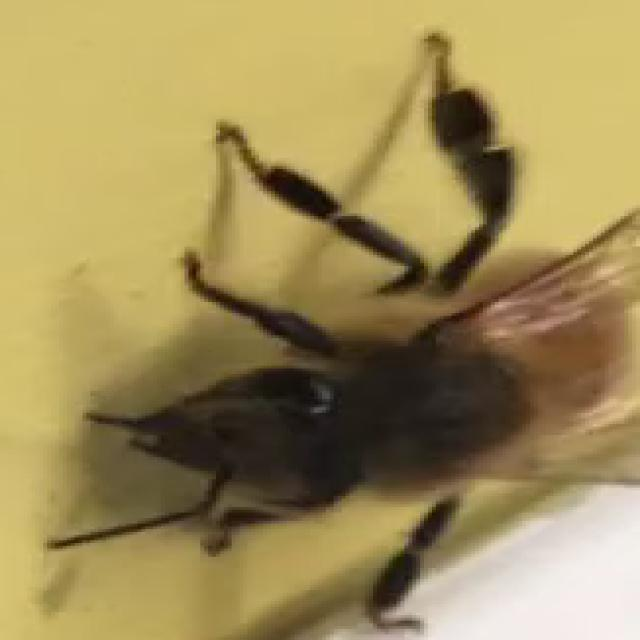honeybee: (84, 37, 610, 614)
